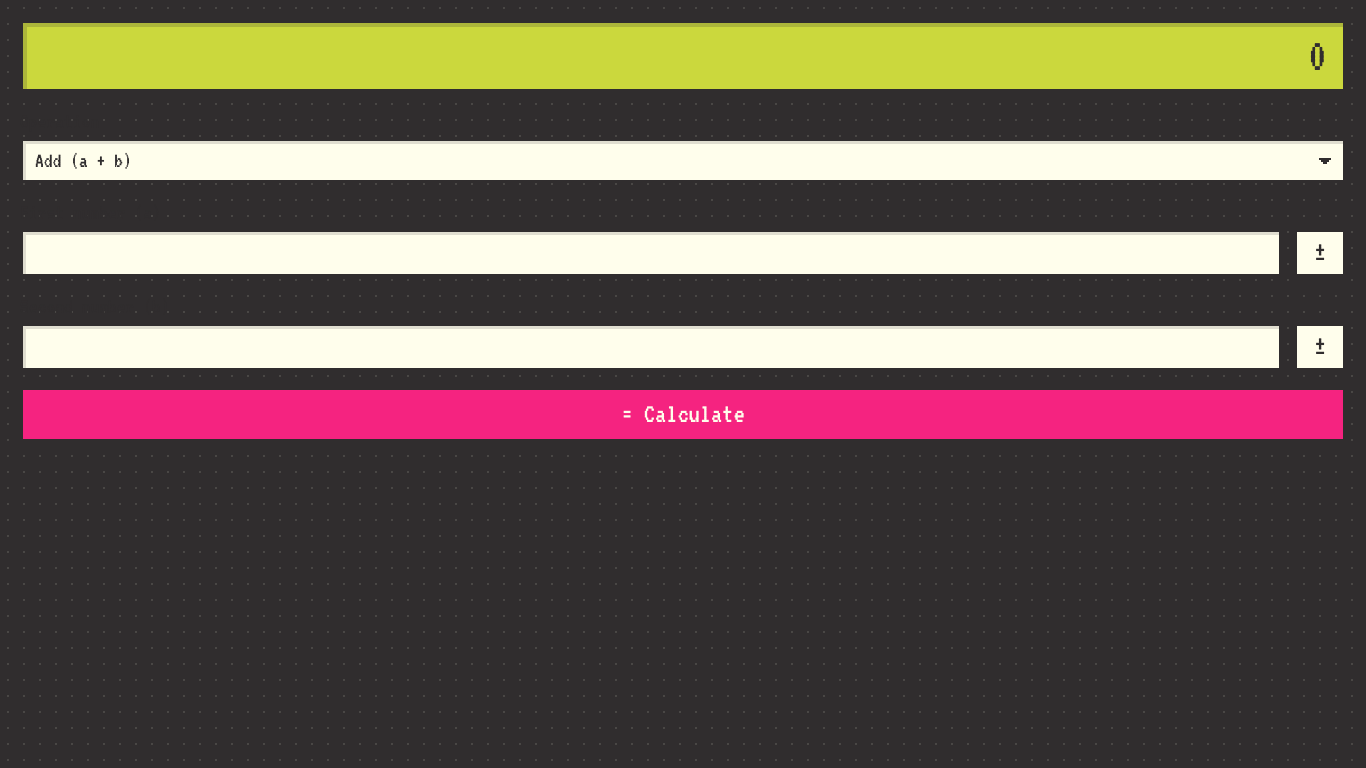
Calculator › sends both numbers and shows the result
The width and height of the screenshot is (1366, 768).
Type "2" into the field labelled "First number (a)".
click(651, 253); type("2")  # box [20,229,1282,277]
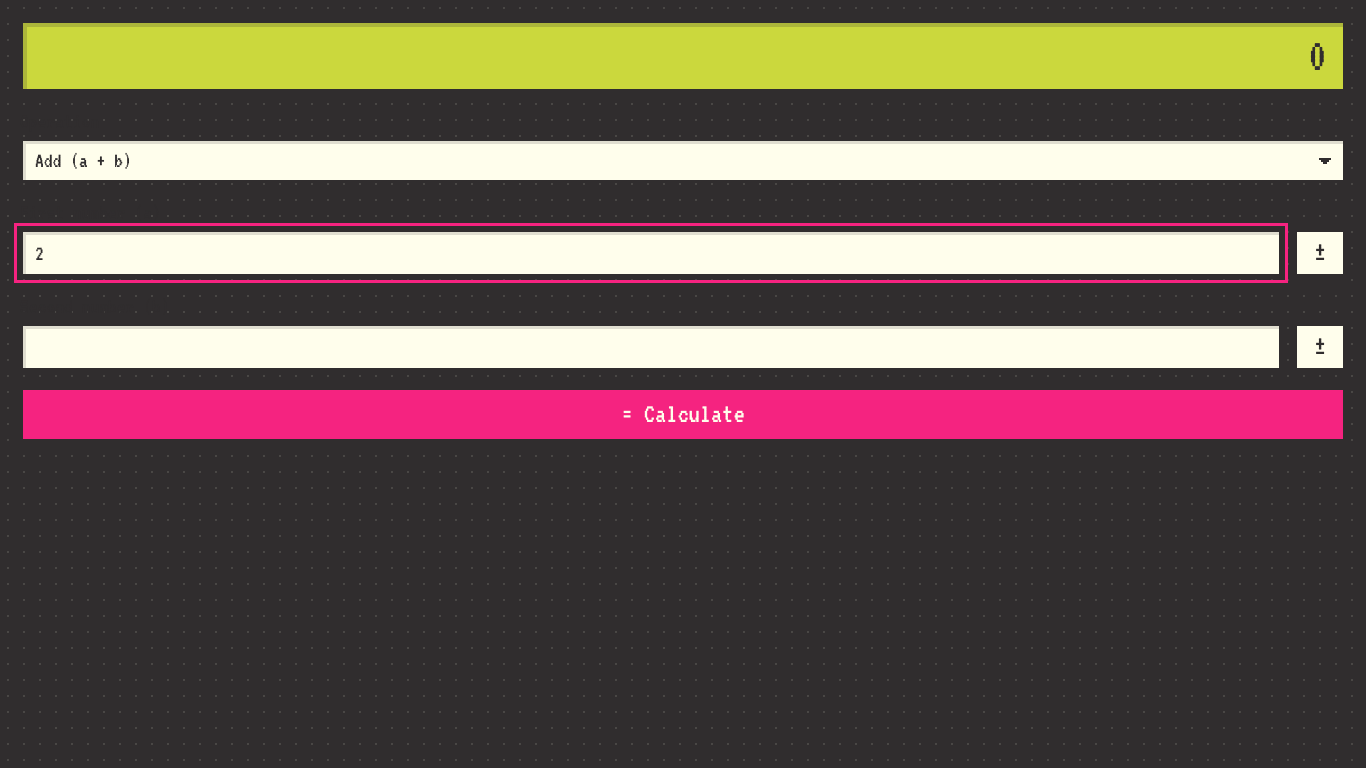
Type "3" into the field labelled "Second number (b)".
click(651, 347); type("3")  # box [20,323,1282,371]
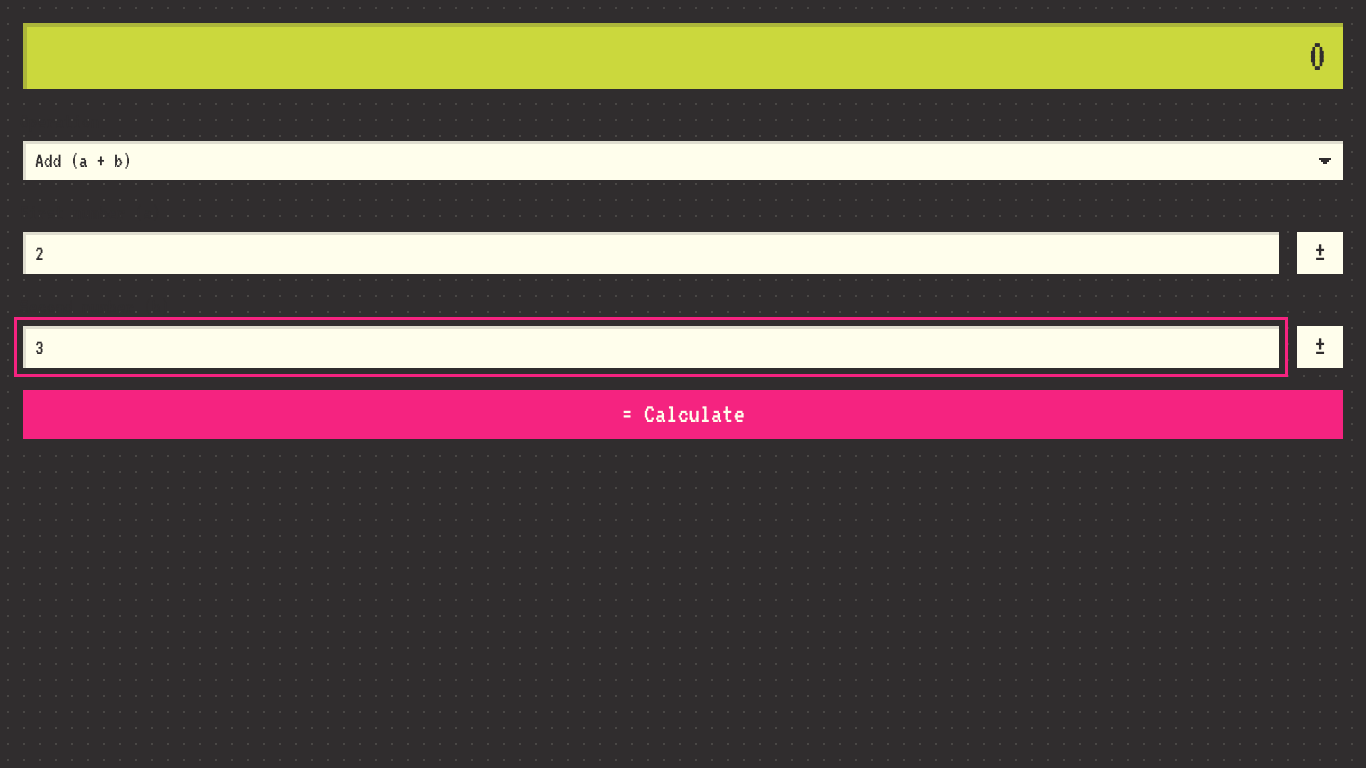
Click the button "= Calculate".
click(683, 415)  # box [20,387,1346,442]
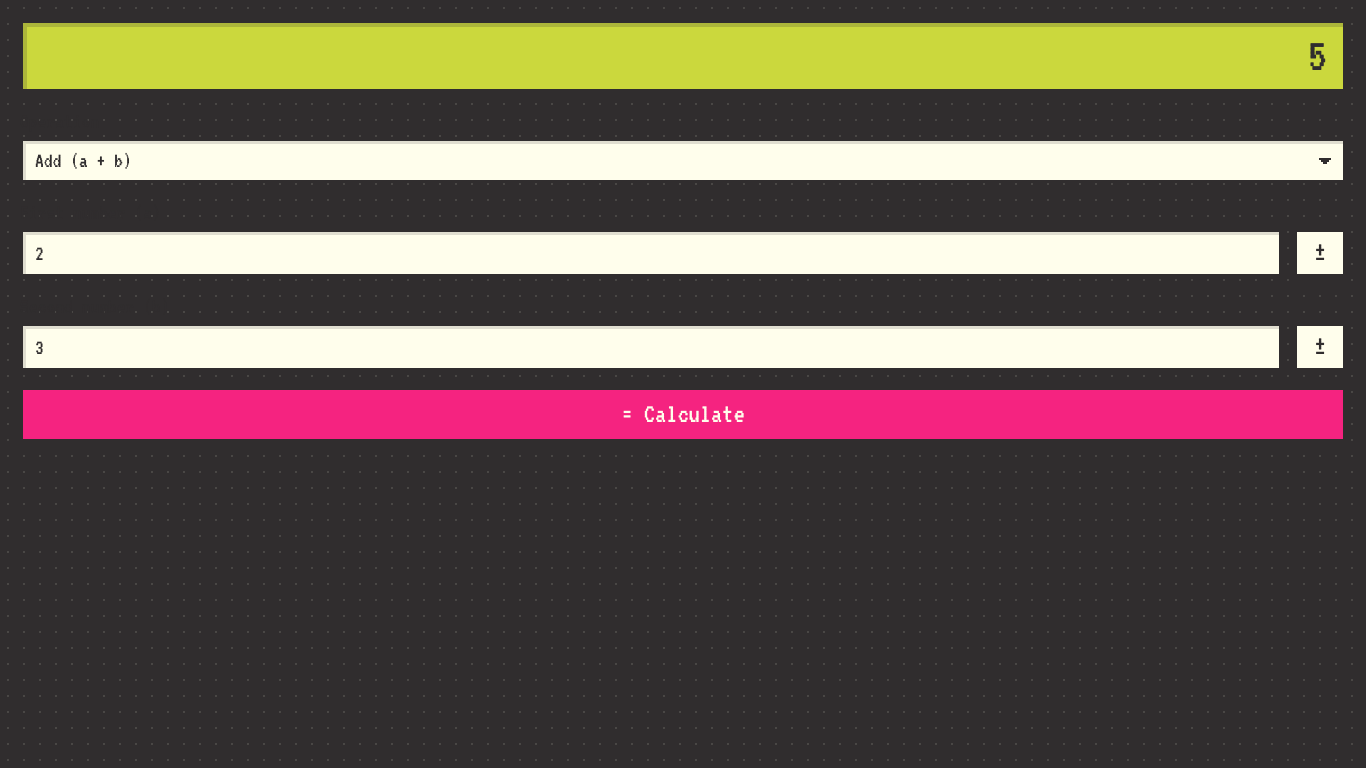
Expected: the text "5" is shown, [1308,32,1327,80]
